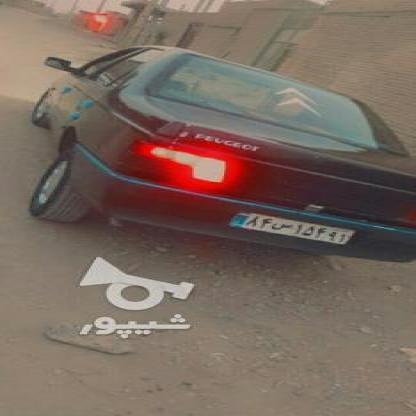licence: (226, 209, 352, 246)
